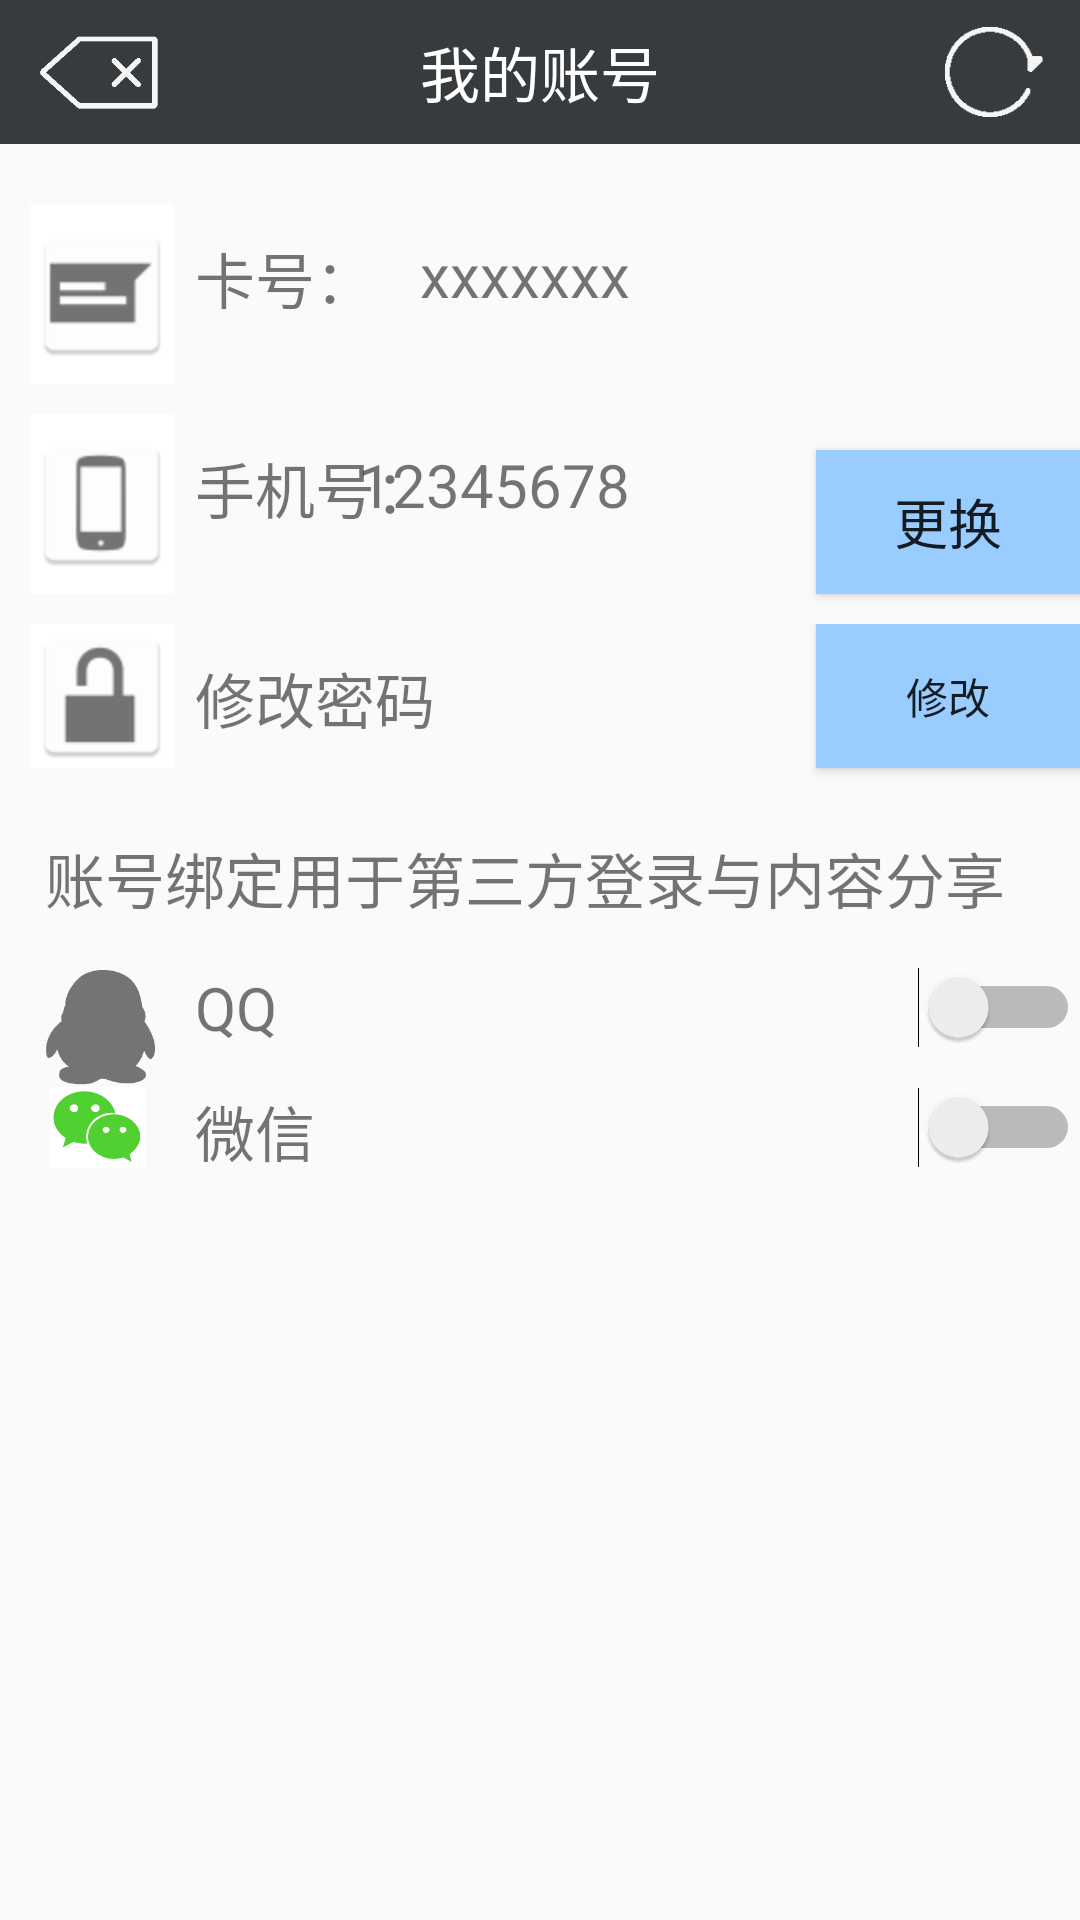

Named icons in this screenshot (1080px x 1920px) and their centers, (x,y):
shuaxin: (994,72)
